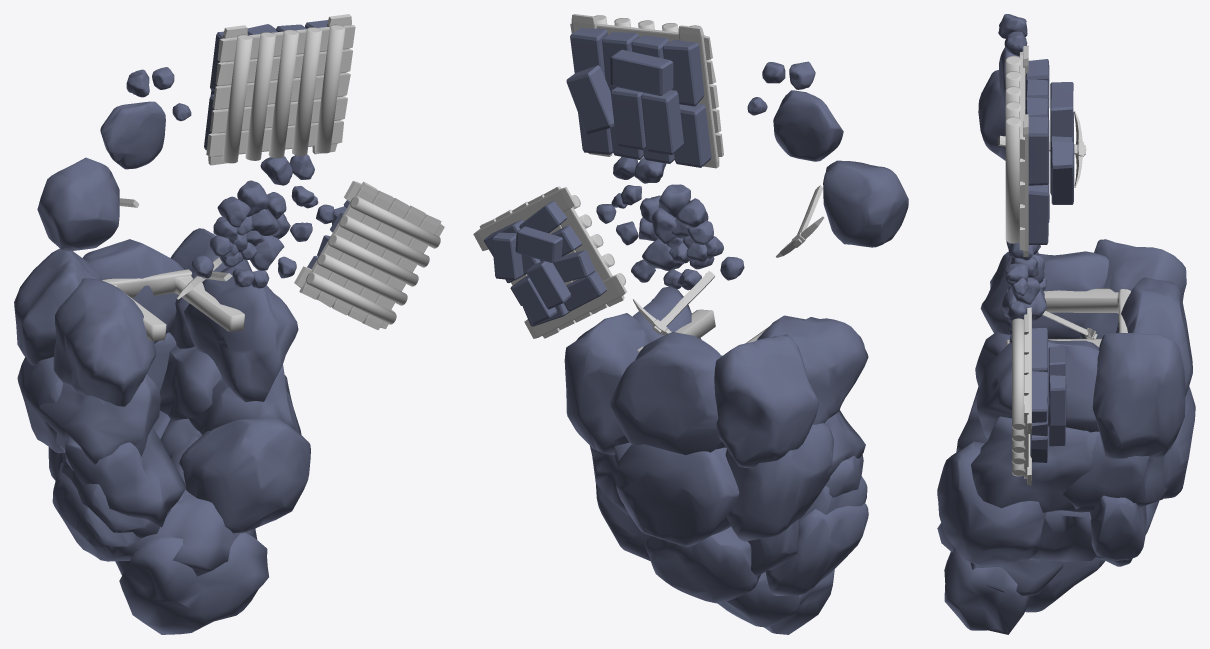
File: Stone_Mine.fbx
3 views of the same model, side by side, from view 1: azimuth 30°, elevation 25°; view 2: azimuth 150°, elevation 25°; view 3: azimuth 270°, elevation 25° (orthographic). The views are drawn at different scales.
Visible parts, largest first — view 1: Stone_Mine; view 2: Stone_Mine; view 3: Stone_Mine.
Part boxes in pixels (x1=…): Stone_Mine: x1=14, y1=14, x2=444, y2=634; Stone_Mine: x1=473, y1=14, x2=908, y2=634; Stone_Mine: x1=937, y1=14, x2=1195, y2=634.
Bounding box in the file's own units: 413 × 791 × 1078.
